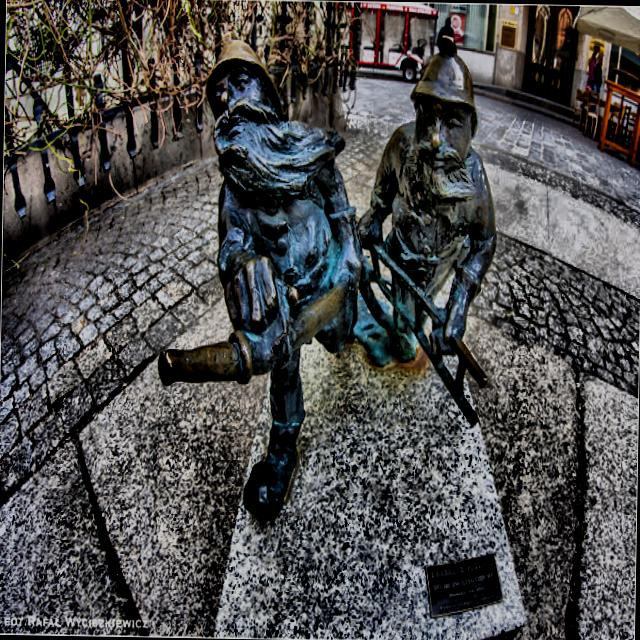Pozarki: (157, 34, 496, 520)
